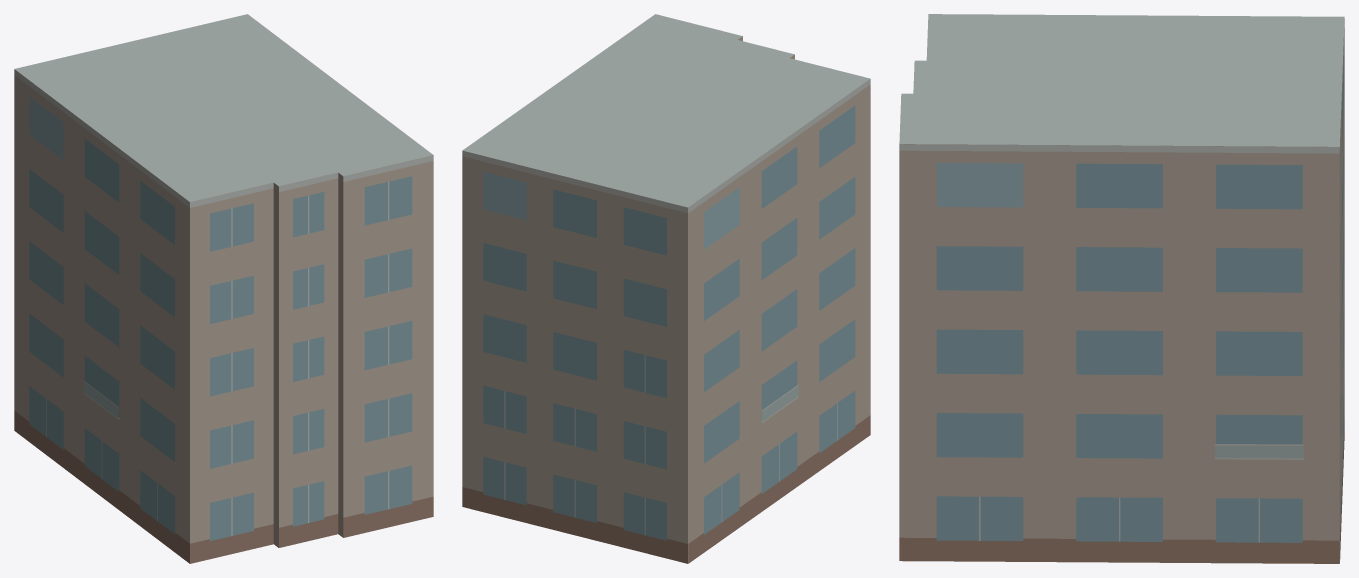
File: survey-upis-32611811.glb
3 views of the same model, side by side, from view 1: azimuth 30°, elevation 25°; view 2: azimuth 150°, elevation 25°; view 3: azimuth 270°, elevation 25° (orthographic). The views are drawn at different scales.
Parts seen in each view (by area): view 1: survey-upis-32611811.tmp; view 2: survey-upis-32611811.tmp; view 3: survey-upis-32611811.tmp.
Boxes of the visible parts, bbox=[...] form: survey-upis-32611811.tmp: bbox=[14, 14, 433, 563]; survey-upis-32611811.tmp: bbox=[462, 14, 870, 563]; survey-upis-32611811.tmp: bbox=[899, 14, 1344, 563].
Bounding box in the file's own units: 10.45 × 15.25 × 14.77.
